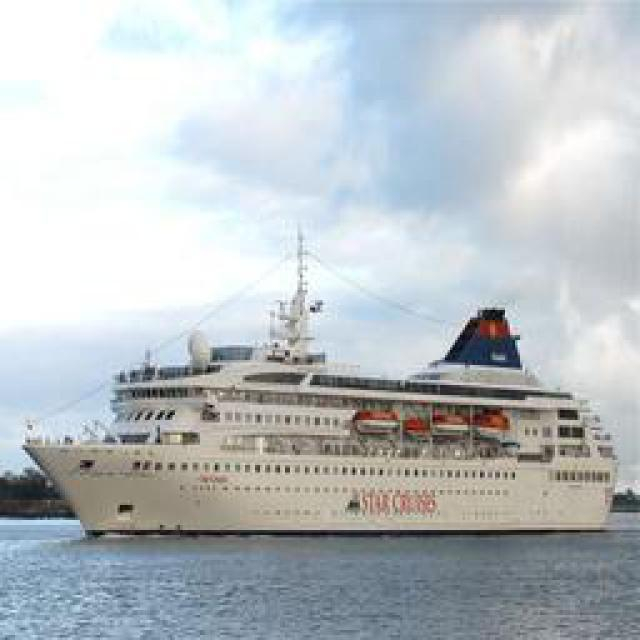Ship: (29, 242, 634, 545)
